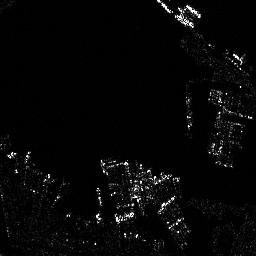ship: (186, 4, 203, 19)
